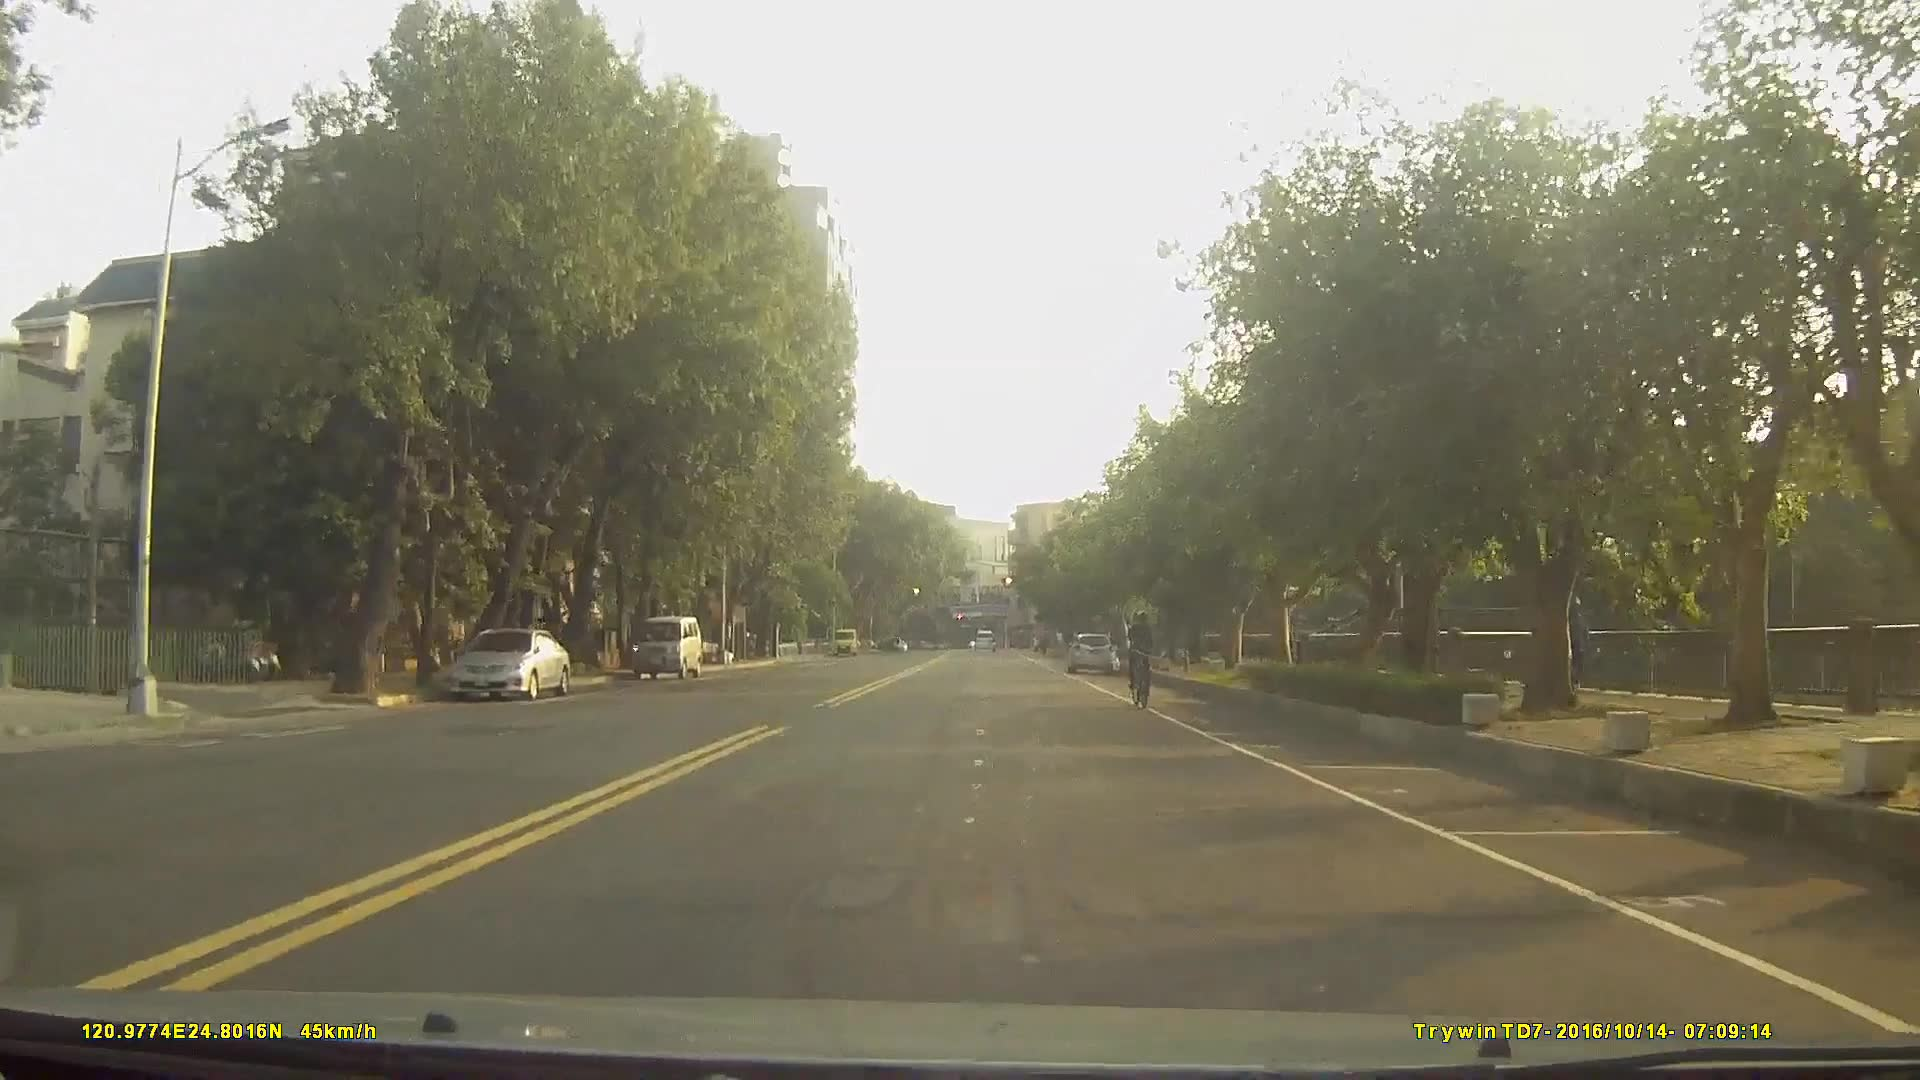rider: (1124, 613, 1159, 713)
vehicle: (441, 627, 567, 702), (629, 613, 703, 679), (1065, 632, 1116, 675), (972, 626, 997, 652)
